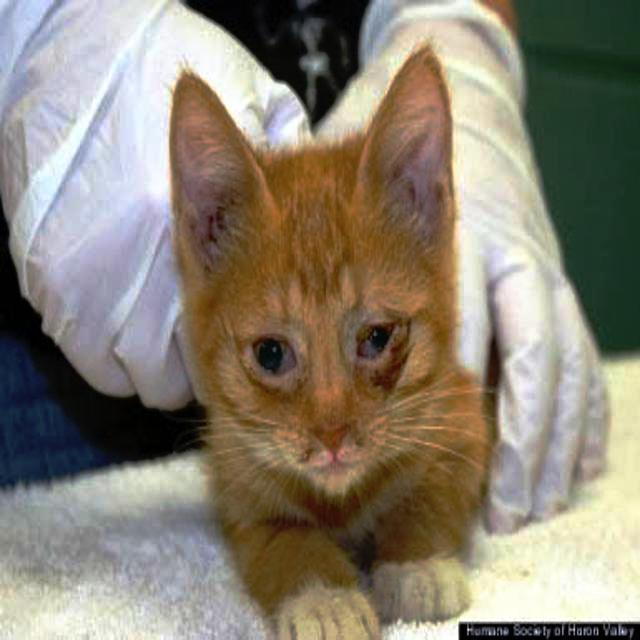eye_infection: (240, 332, 309, 398), (356, 322, 402, 366)
